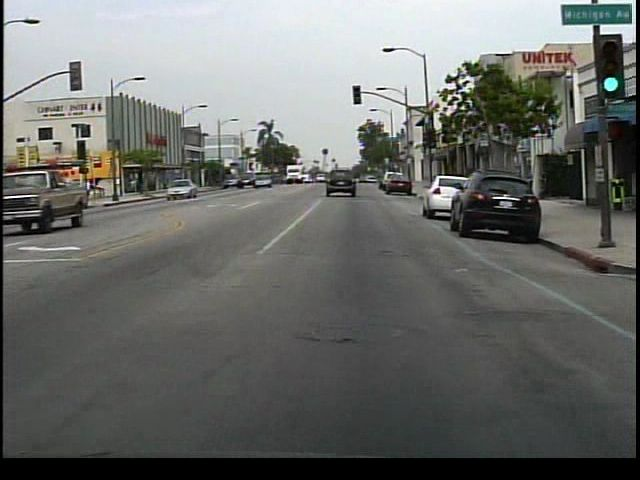car: (453, 168, 539, 246), (3, 165, 92, 230), (422, 167, 460, 222), (325, 166, 355, 198), (165, 177, 199, 200), (384, 171, 411, 196), (251, 175, 272, 188)
